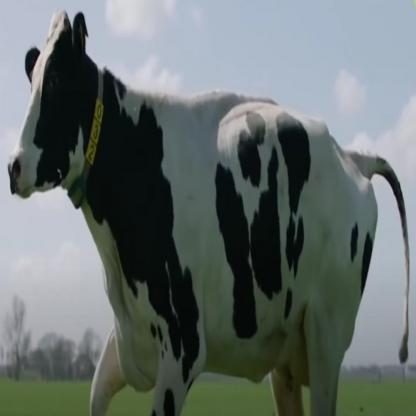cow: (6, 6, 410, 416)
